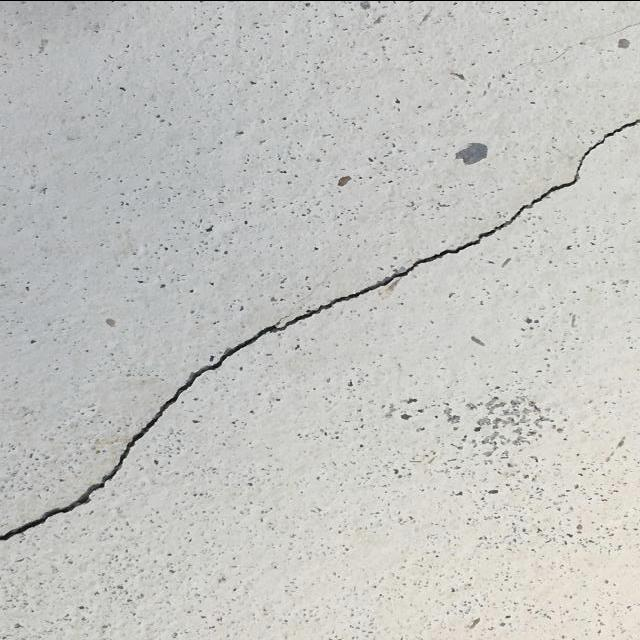SurfaceCrack: (0, 65, 639, 574)
